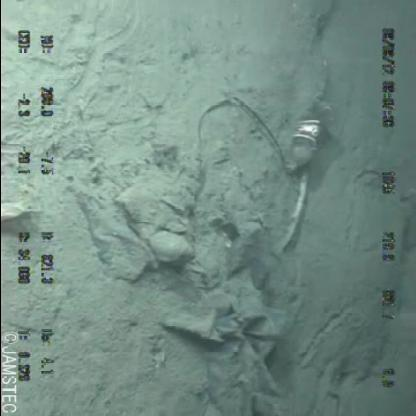Rác: (278, 97, 336, 180)
